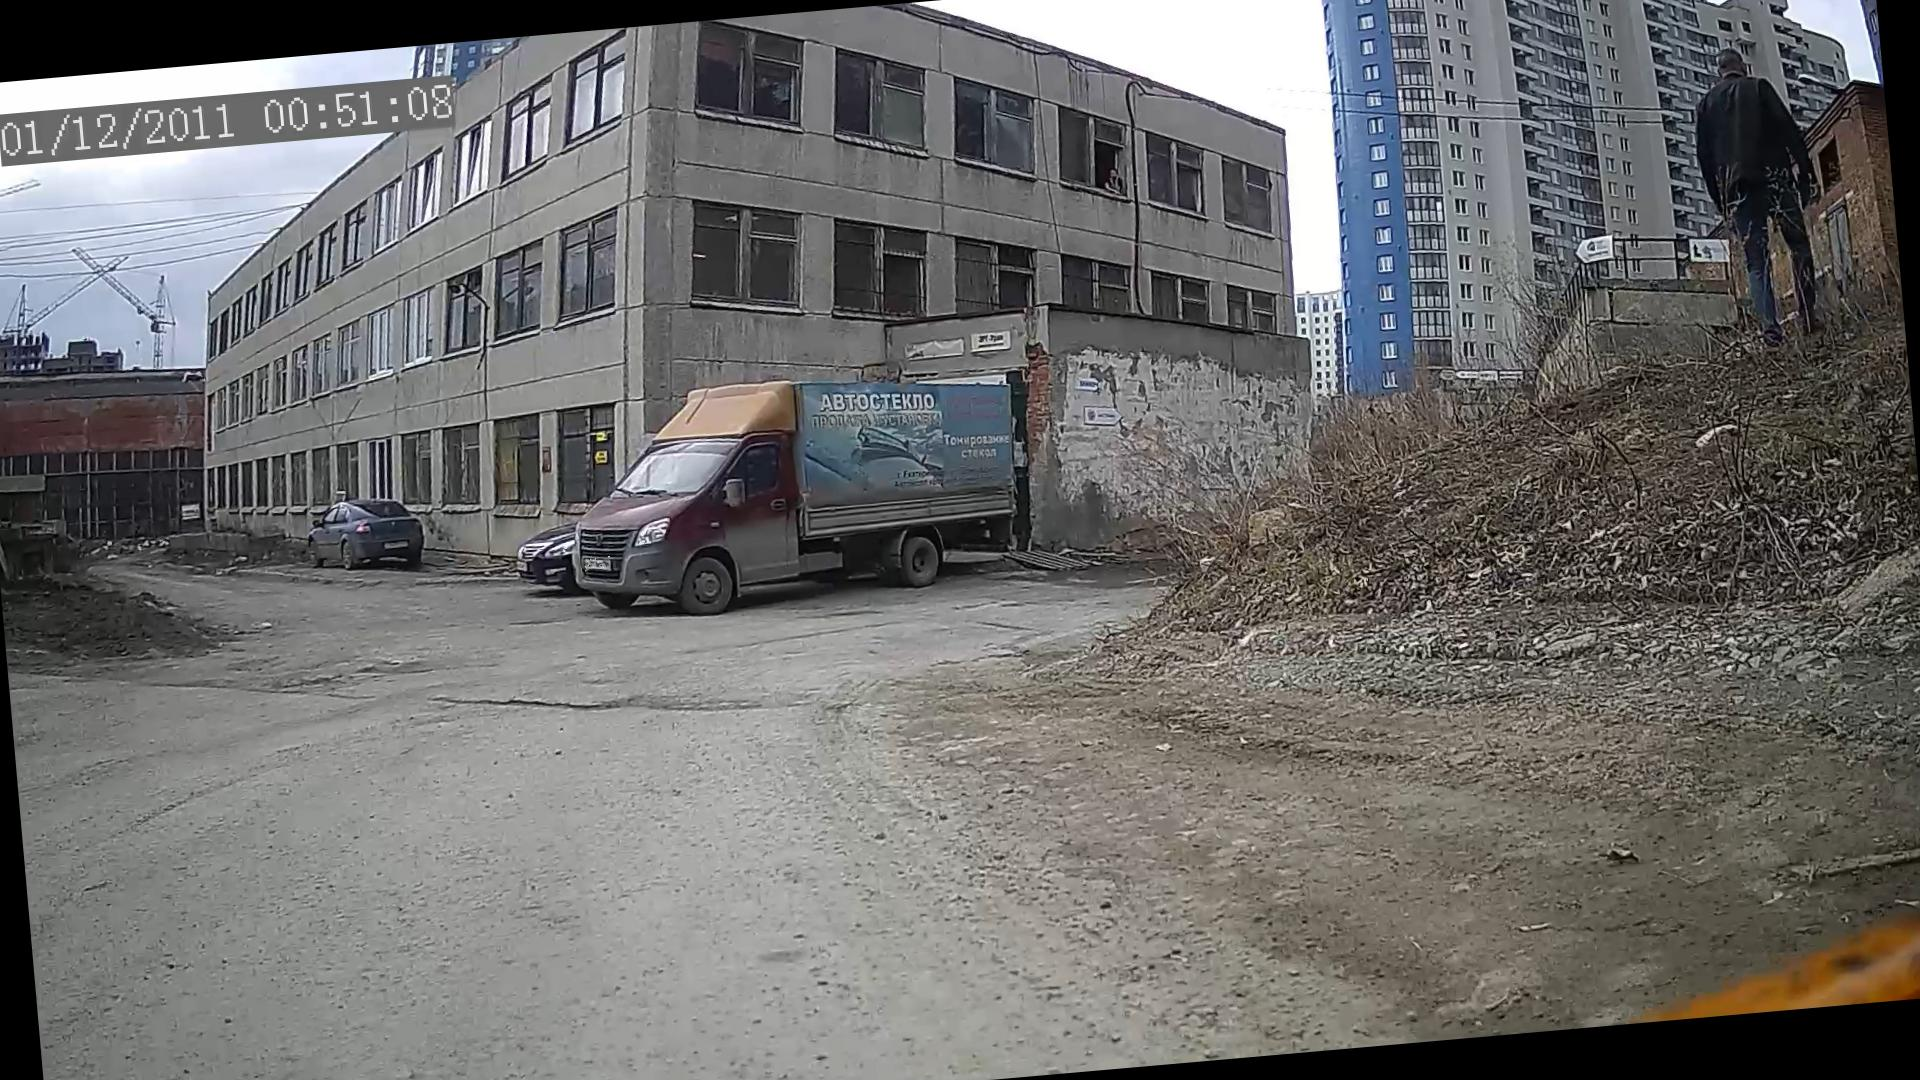plate: (583, 557, 617, 573)
